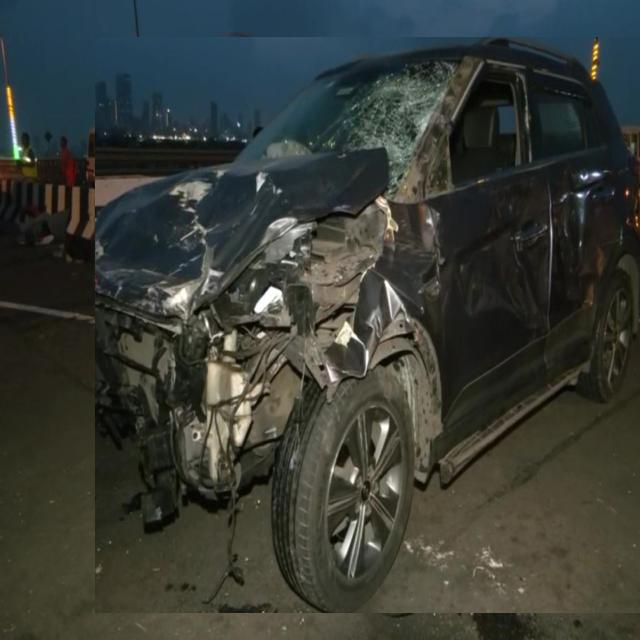accident: (95, 37, 640, 613)
